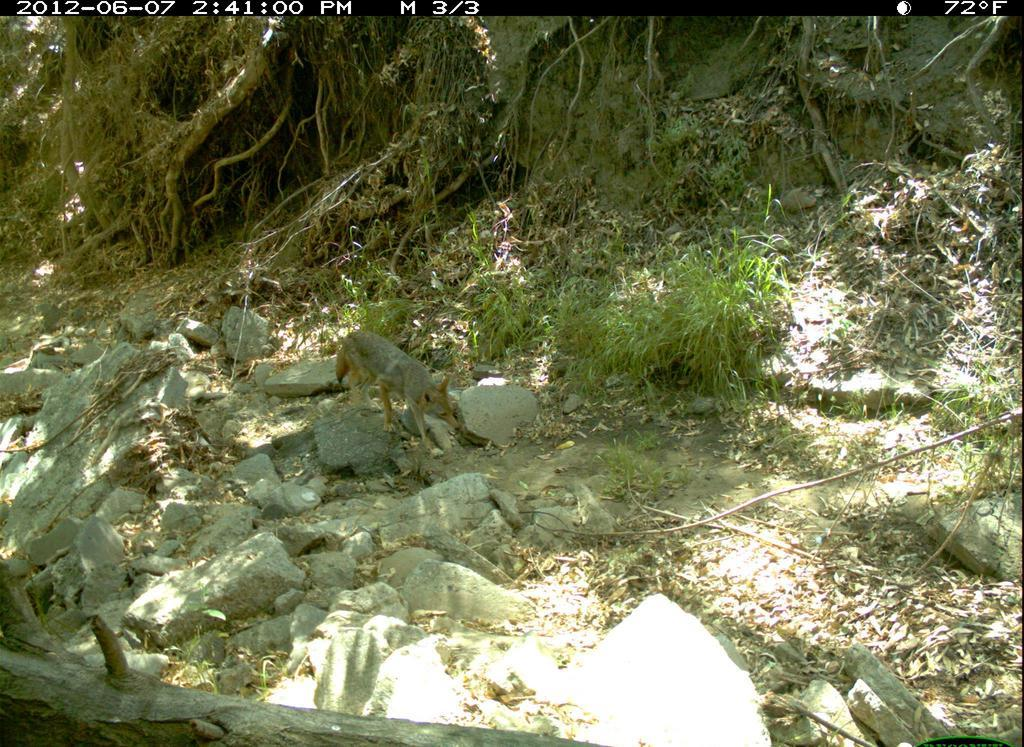coyote: (336, 323, 465, 454)
